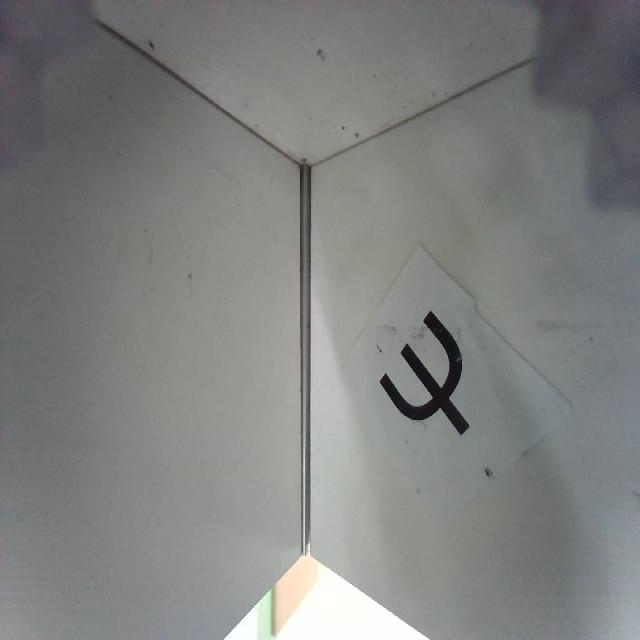nedoF: (378, 309, 470, 436)
